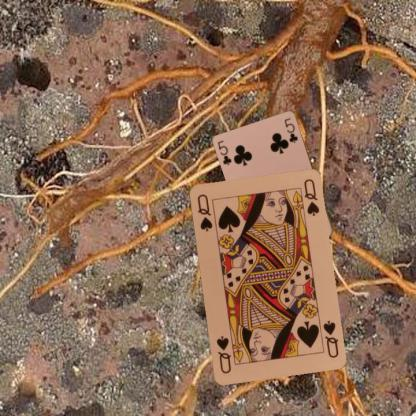5c: (216, 138, 234, 166)
Qs: (320, 318, 340, 359), (194, 192, 214, 232)
